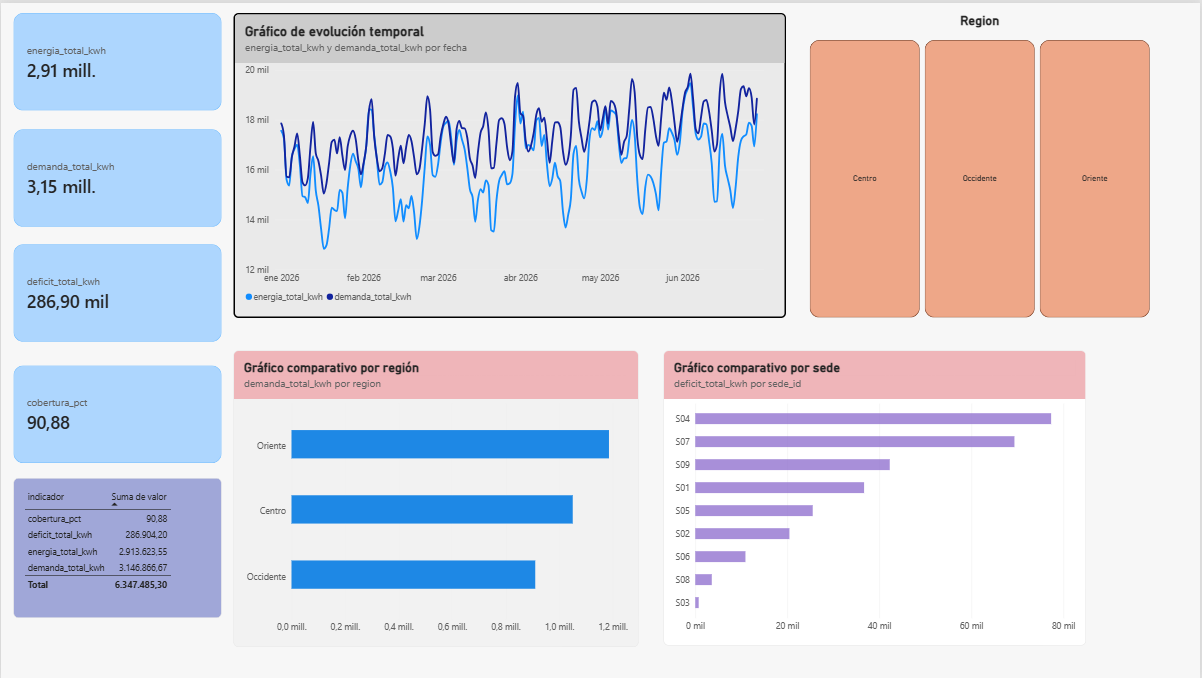

This screenshot's page, from the dashboard's own definition file:
{"tool":"powerbi","page":{"name":"Página 1","canvas":[1920,1080],"ordinal":0},"visuals":[{"type":"cardVisual","fields":{"Data":["Fact_Operaciones.Energia_Total_Generada"]},"box":[20,15,333.3,156.7],"z":0},{"type":"cardVisual","fields":{"Data":["Fact_Operaciones.Demanda_Total"]},"box":[20,202.5,333.3,156.7],"z":1000},{"type":"cardVisual","fields":{"Data":["Fact_Operaciones.Deficit_Energico_Total"]},"box":[20,385,333.3,156.7],"z":2000},{"type":"cardVisual","fields":{"Data":["Fact_Operaciones.cobertura_pct"]},"box":[20,580,333.3,156.7],"z":3000},{"type":"lineChart","title":"Gráfico de evolución temporal ","fields":{"Category":["Fact_Operaciones.fecha"],"Y":["Fact_Operaciones.Energia_Total_Generada","Fact_Operaciones.Demanda_Total"]},"box":[372.6,16.6,884,488],"z":4000},{"type":"clusteredBarChart","title":"Gráfico comparativo por región","fields":{"Category":["Dim_Sede.region"],"Y":["Fact_Operaciones.Demanda_Total"]},"box":[372,556,648,474],"z":5000},{"type":"clusteredBarChart","title":"Gráfico comparativo por sede","fields":{"Category":["Dim_Sede.sede_id"],"Y":["Fact_Operaciones.Deficit_Energico_Total"]},"box":[1060,556,676,472],"z":6000},{"type":"advancedSlicerVisual","title":"Region","fields":{"Values":["Fact_Operaciones.region"]},"box":[1294,16,544,488],"z":7000},{"type":"tableEx","fields":{"Values":["Tabla_Indicadores.indicador","Sum(Tabla_Indicadores.valor)"]},"box":[19.9,760.1,333,224.4],"z":7001}]}

Visuals, with their boxes in screenshot pixels (x1, y1, x2, y2), scaled from the page's 1920x1080 canvas onto the 1202x678 screenshot:
cardVisual - Fact_Operaciones.Energia_Total_Generada: rect(13, 9, 221, 108)
cardVisual - Fact_Operaciones.Demanda_Total: rect(13, 127, 221, 225)
cardVisual - Fact_Operaciones.Deficit_Energico_Total: rect(13, 242, 221, 340)
cardVisual - Fact_Operaciones.cobertura_pct: rect(13, 364, 221, 462)
"Gráfico de evolución temporal " lineChart: rect(233, 10, 787, 317)
"Gráfico comparativo por región" clusteredBarChart: rect(233, 349, 639, 647)
"Gráfico comparativo por sede" clusteredBarChart: rect(664, 349, 1087, 645)
"Region" advancedSlicerVisual: rect(810, 10, 1151, 316)
tableEx - Tabla_Indicadores.indicador x Sum(Tabla_Indicadores.valor): rect(12, 477, 221, 618)
